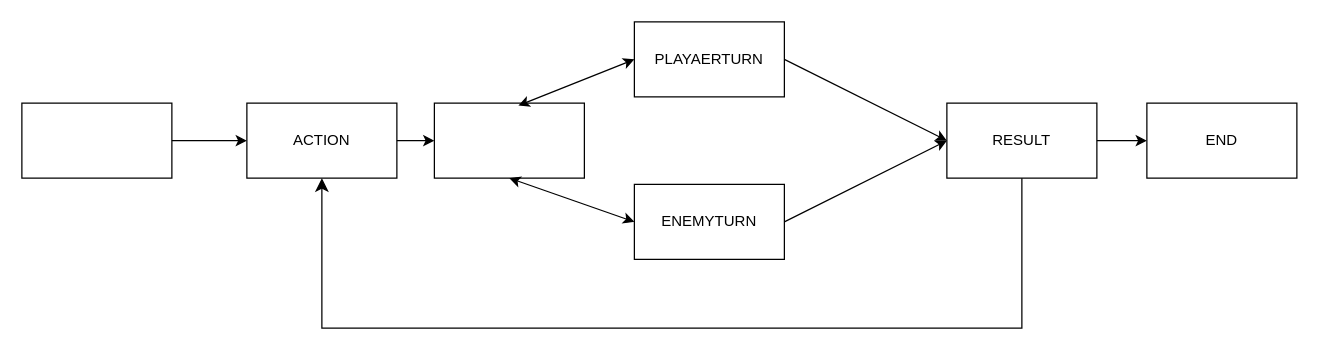
This 1319x363 diagram has some shape labels left out. Here are the shapes that lost their labels. From the top down, the centre of each, then its label:
the point at 96,140: START
the point at 508,140: PROCESS
